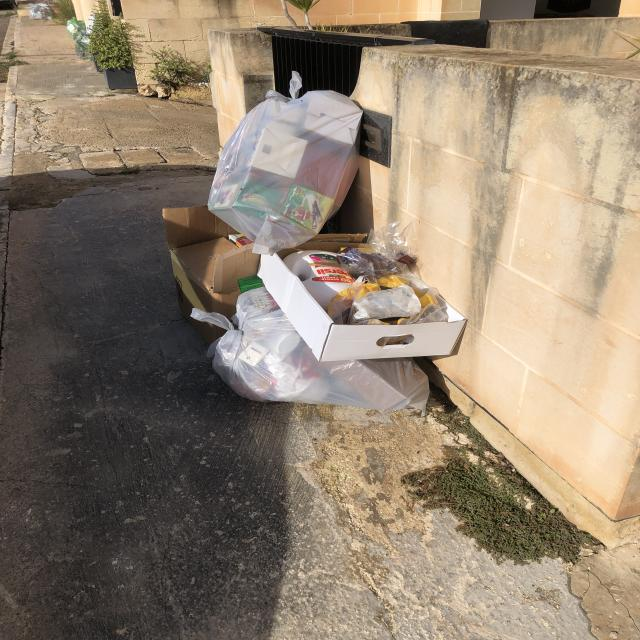Other: (258, 230, 473, 364), (159, 205, 261, 320), (324, 276, 451, 324), (346, 223, 419, 281), (285, 250, 352, 309), (356, 284, 424, 319), (228, 230, 256, 248), (88, 14, 98, 36)
Recycled Waste -Grey or Green Bag-: (175, 286, 438, 420), (205, 68, 366, 258), (24, 3, 54, 23), (76, 35, 95, 61), (67, 17, 87, 40)
